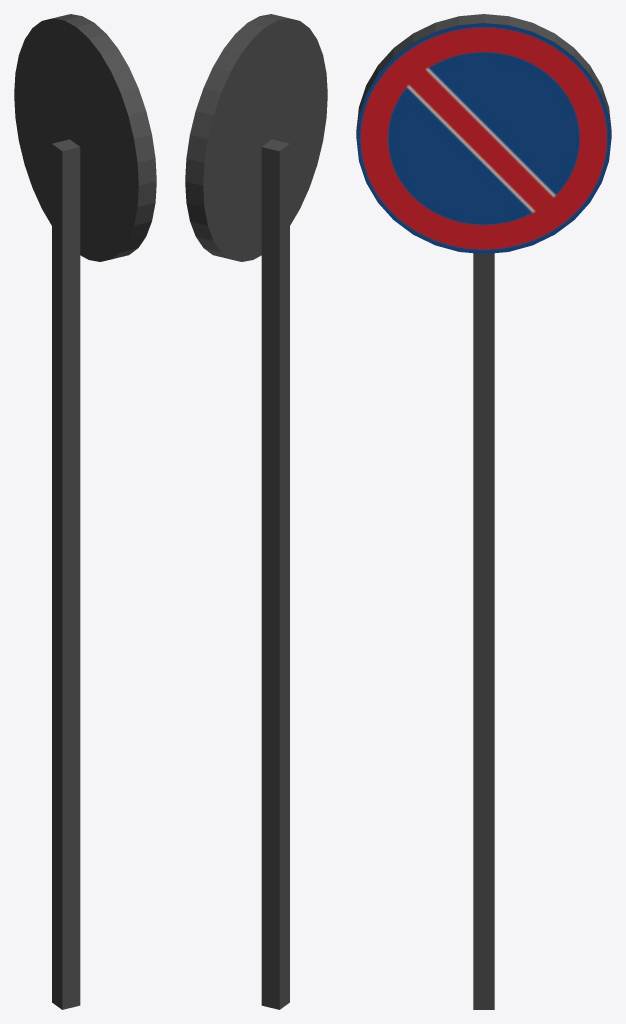
File: park_yasak2_levha.dae
3 views of the same model, side by side, from view 1: azimuth 30°, elevation 25°; view 2: azimuth 150°, elevation 25°; view 3: azimuth 270°, elevation 25° (orthographic). The views are drawn at different scales.
Visible parts, largest first — view 1: Cube.004, Cube.001; view 2: Cube.004, Cube.001; view 3: Cube.001, Cube.004.
Part boxes in pixels (left/top/right/bottom): Cube.004: left=52, top=139, right=80, bottom=1009; Cube.001: left=14, top=14, right=156, bottom=261; Cube.004: left=261, top=139, right=289, bottom=1009; Cube.001: left=185, top=14, right=327, bottom=261; Cube.001: left=356, top=14, right=611, bottom=253; Cube.004: left=473, top=253, right=494, bottom=1009.
Size of the model in its own units: 0.1039 by 0.6 by 2.59.
2 materials, 1 textured.
